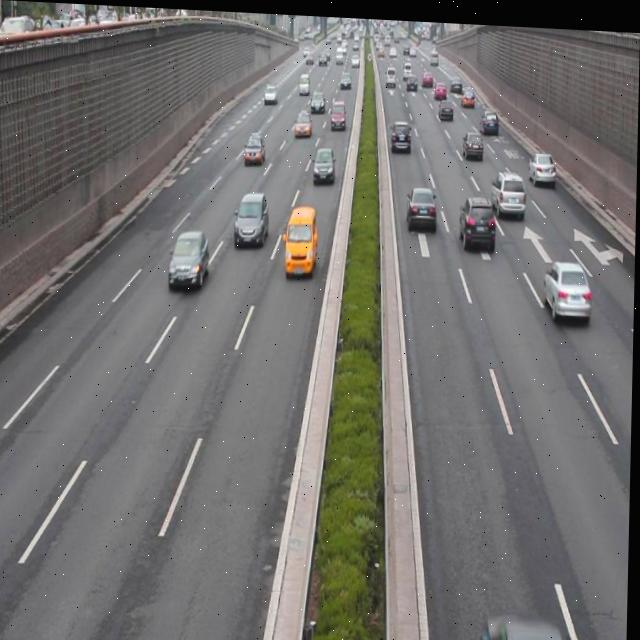car: (542, 250, 591, 314), (170, 226, 210, 287), (460, 189, 497, 248), (234, 188, 269, 243), (491, 163, 526, 211), (407, 179, 438, 228), (528, 145, 556, 178), (313, 143, 336, 180), (244, 129, 265, 164), (391, 115, 412, 148), (463, 125, 484, 158)
truck: (285, 201, 318, 275)
